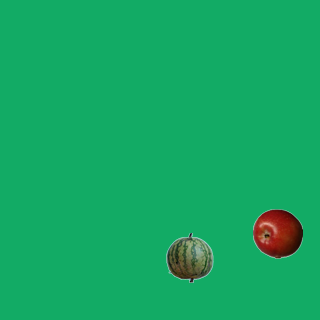Apple Braeburn: (252, 208, 302, 258)
Watermelon: (164, 232, 214, 282)
